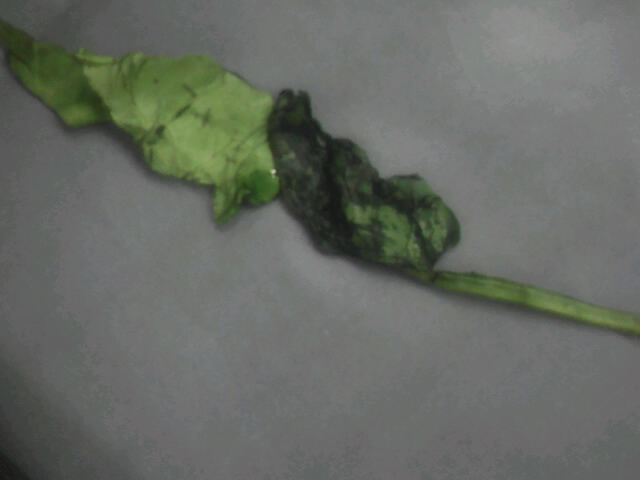yellow: (20, 25, 474, 307)
